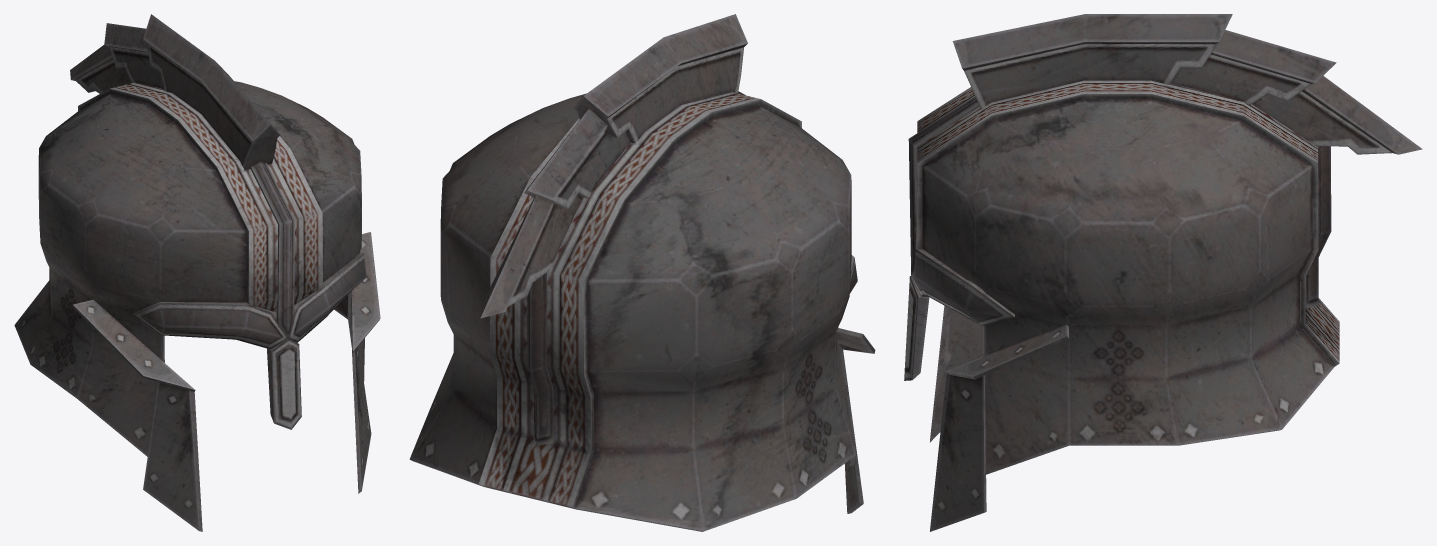
File: sk_dwarf_iron_helmet_heavy_d1.fbx
The picture shows the model from 3 angles, left to right: view 1: azimuth 30°, elevation 25°; view 2: azimuth 150°, elevation 25°; view 3: azimuth 270°, elevation 25°; orthographic projection. The views are drawn at different scales.
Parts seen in each view (by area): view 1: sk_dwarf_iron_helmet_heavy_d1; view 2: sk_dwarf_iron_helmet_heavy_d1; view 3: sk_dwarf_iron_helmet_heavy_d1.
Part boxes in pixels (x1=…): sk_dwarf_iron_helmet_heavy_d1: x1=14, y1=14, x2=380, y2=531; sk_dwarf_iron_helmet_heavy_d1: x1=409, y1=14, x2=875, y2=531; sk_dwarf_iron_helmet_heavy_d1: x1=904, y1=14, x2=1422, y2=531.
Bounding box in the file's own units: 0.2823 × 0.3632 × 0.3658.
1 material, 1 textured.
